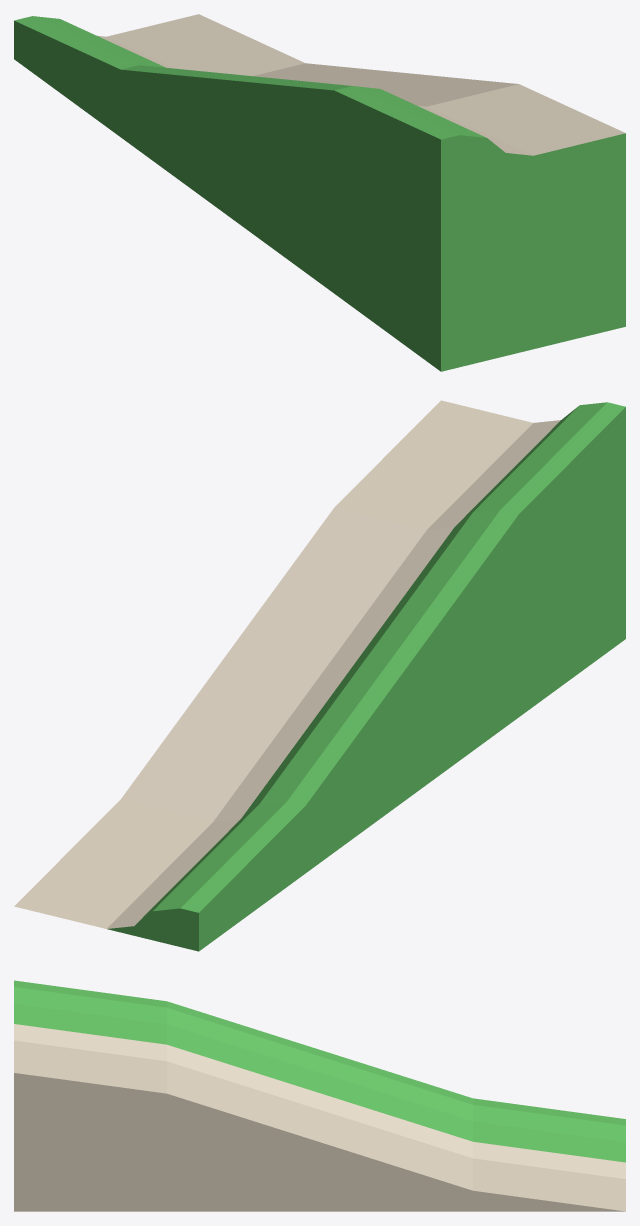
The model's file is Path_Hill_Gentle_Side.glb.
The picture shows the model from 3 angles, top to bottom: view 1: azimuth 30°, elevation 25°; view 2: azimuth 150°, elevation 25°; view 3: azimuth 270°, elevation 25°; orthographic projection. The views are drawn at different scales.
Visible parts, largest first — view 1: object1; view 2: object1; view 3: object1.
Boxes of the visible parts, x1,y1,x2,y2 form: object1: (14, 14, 625, 371); object1: (14, 400, 625, 951); object1: (14, 980, 625, 1211).
Bounding box in the file's own units: 1 × 1.2 × 4.
